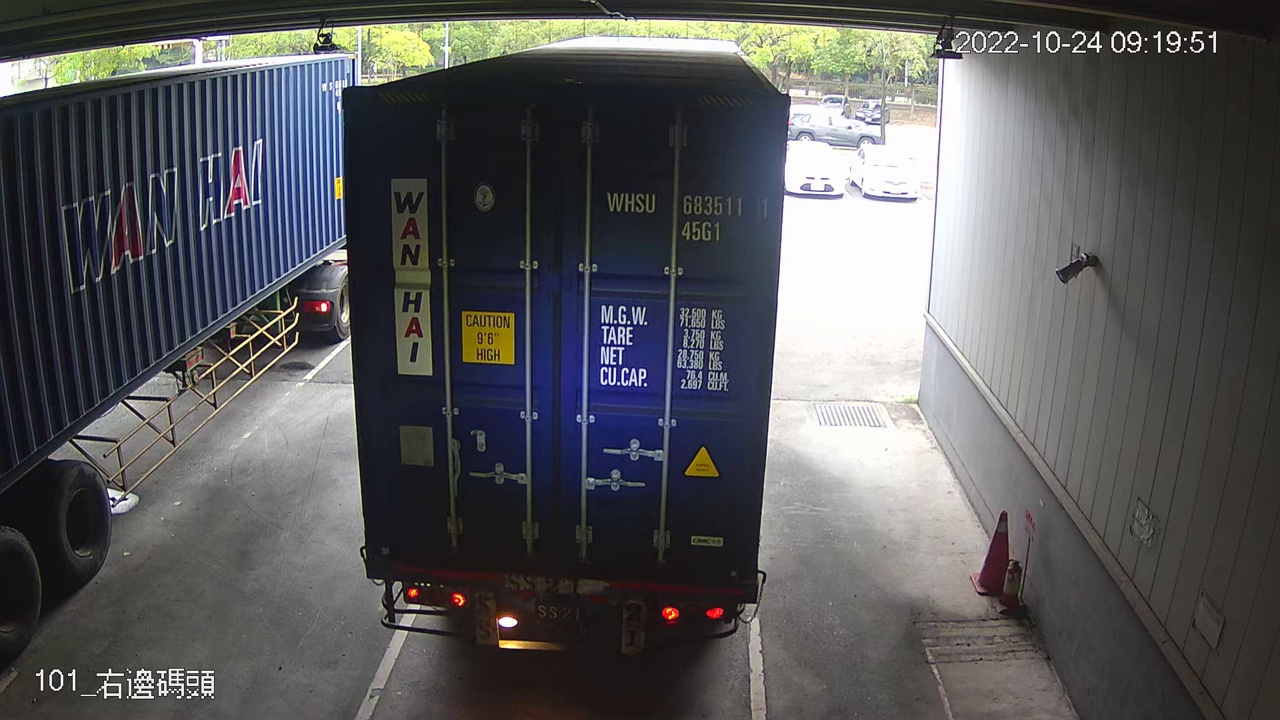container: (599, 183, 774, 247)
